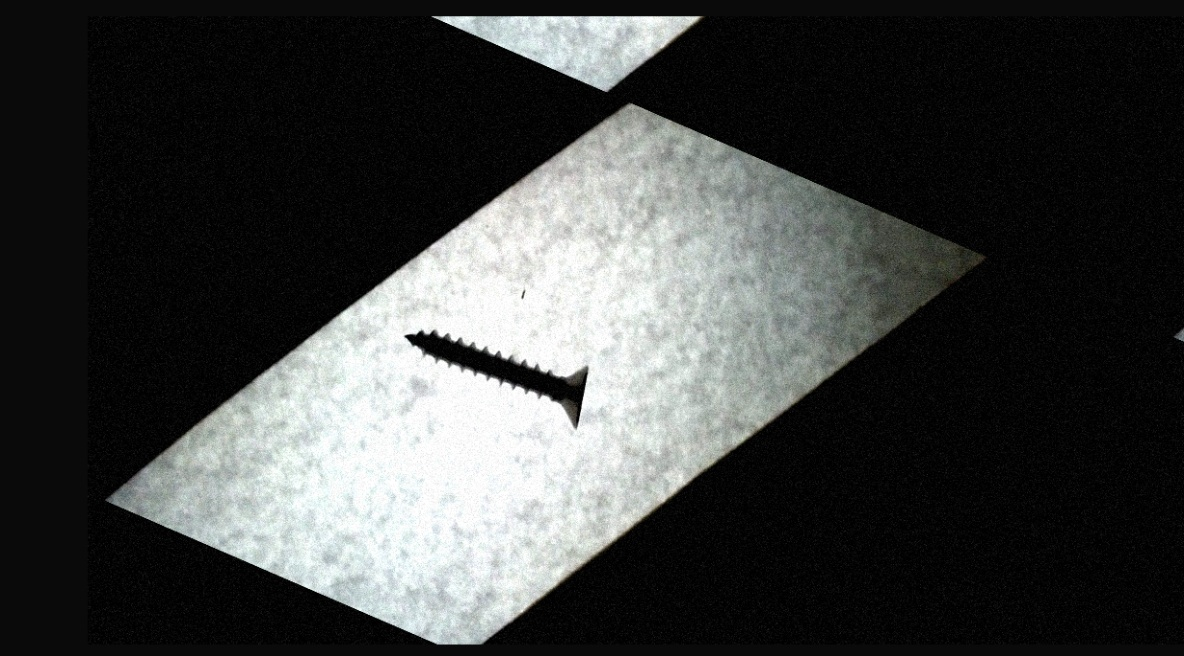S001: (376, 268, 615, 460)
